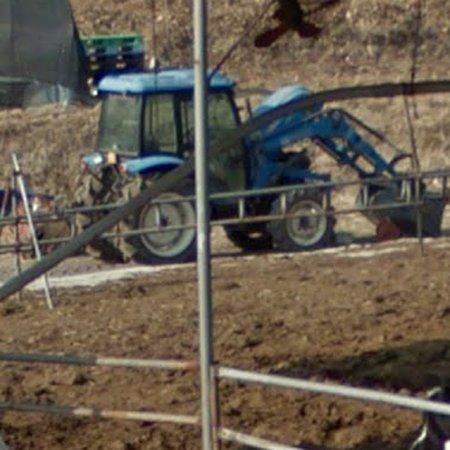tractors: (208, 73, 409, 194), (77, 70, 194, 231), (212, 189, 334, 251), (125, 174, 196, 262), (360, 180, 417, 233), (257, 86, 310, 113), (423, 190, 445, 234)
